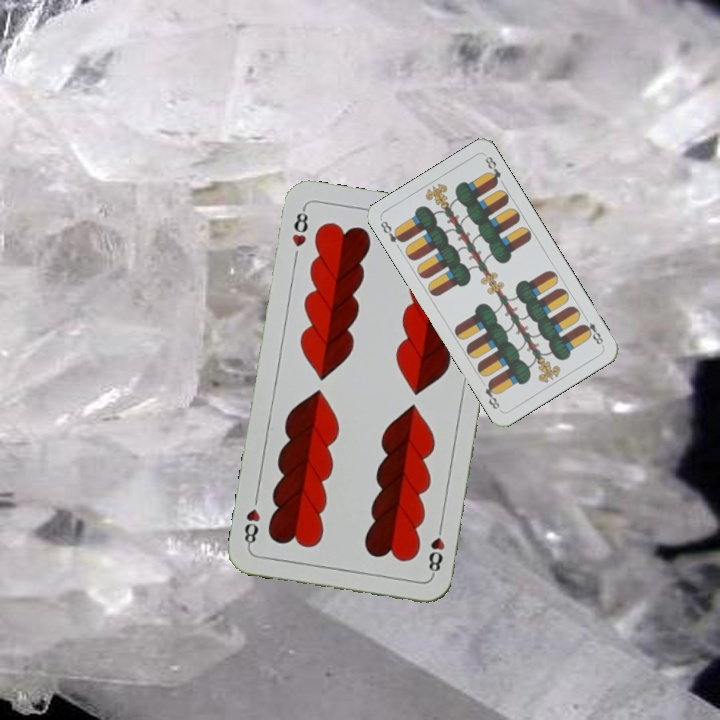E8: (578, 312, 606, 349), (376, 216, 407, 245)
H8: (424, 520, 447, 579), (288, 204, 311, 250)
